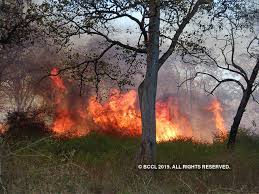fire: (49, 88, 185, 144)
smoke: (5, 30, 144, 87), (191, 99, 218, 135), (160, 71, 174, 92)
